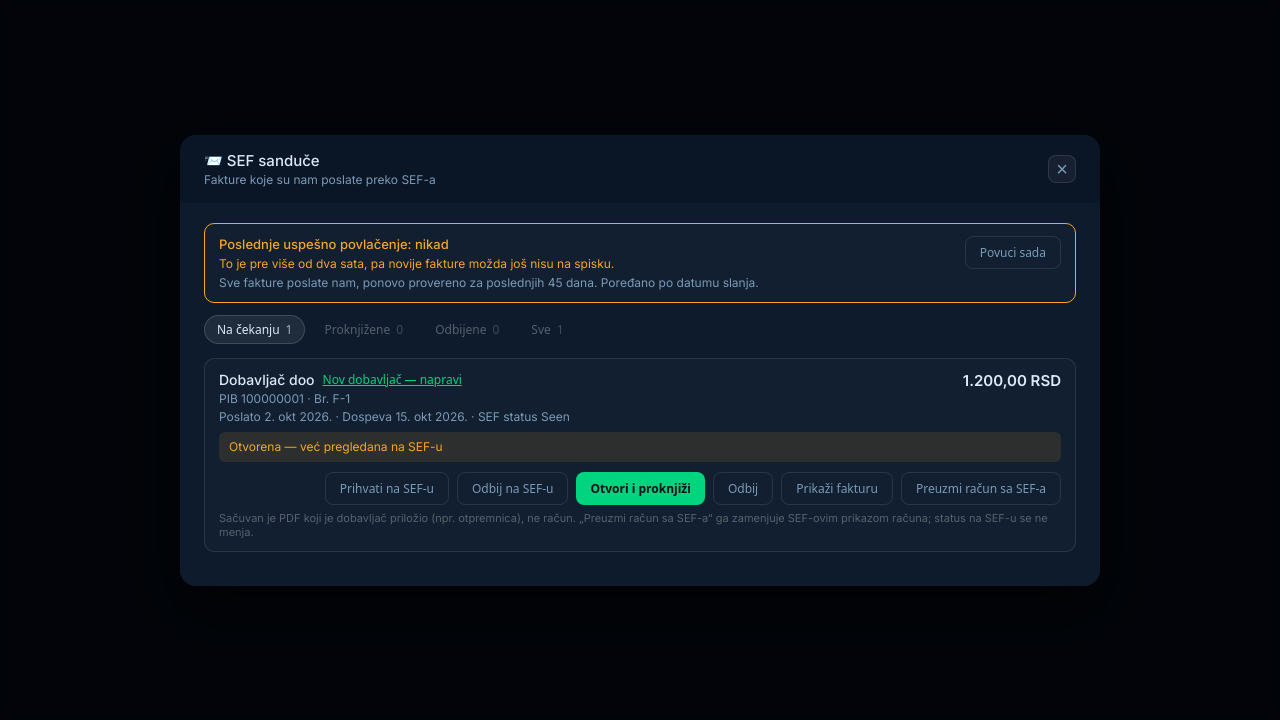
repairing a row that kept the supplier’s attachment › shows the function’s refusal on the row
Check: the text "Dobavljač doo" is shown, box x1=219 y1=370 x2=315 y2=388
Click the button "Preuzmi račun sa SEF-a": (981, 488) x1=901 y1=472 x2=1061 y2=504
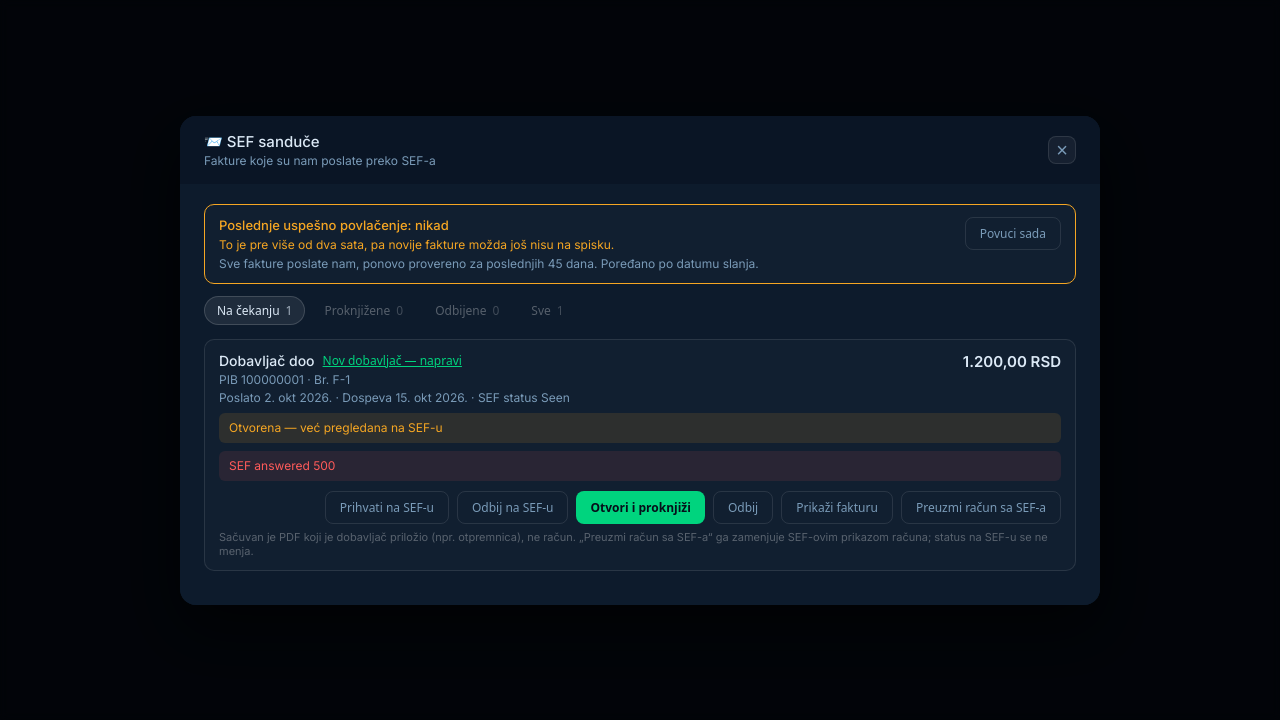
Check: the message reads "SEF answered 500", box x1=229 y1=458 x2=335 y2=472
